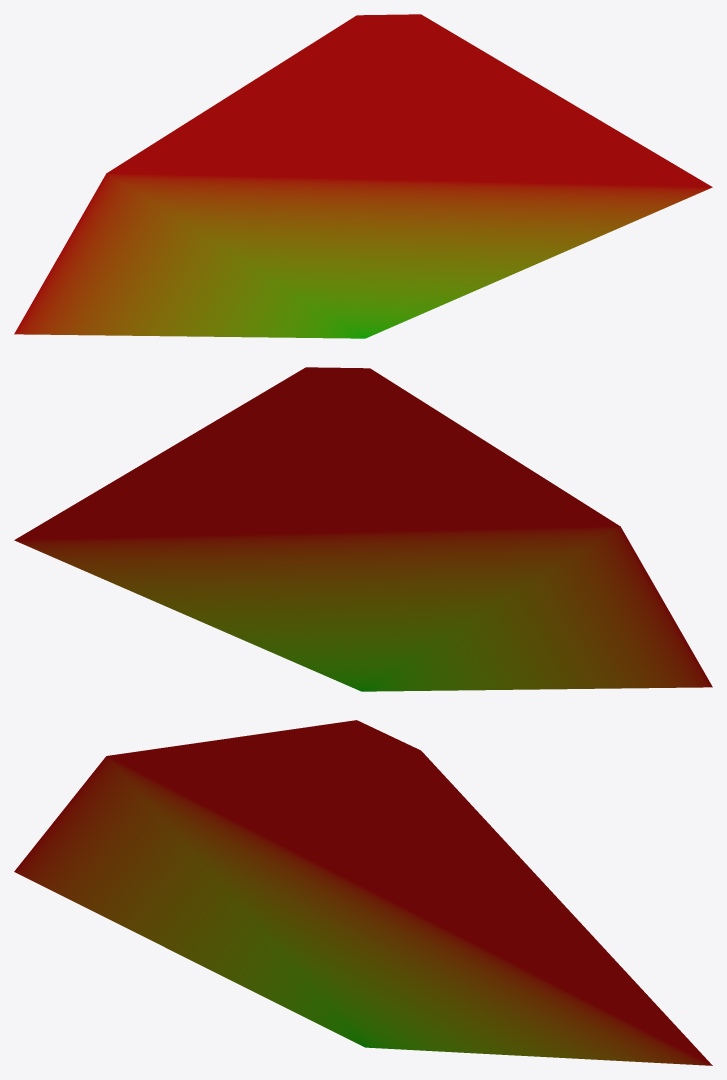
File: Silver Lady Fern_LOD5_Var5_ubolejkia.fbx
3 views of the same model, one above another, from view 1: azimuth 30°, elevation 25°; view 2: azimuth 150°, elevation 25°; view 3: azimuth 330°, elevation 25° (orthographic).
Parts seen in each view (by area): view 1: _4fad_Var5_LOD5; view 2: _4fad_Var5_LOD5; view 3: _4fad_Var5_LOD5.
Boxes of the visible parts, x1,y1,x2,y2 form: _4fad_Var5_LOD5: (14,14,712,338); _4fad_Var5_LOD5: (14,367,712,691); _4fad_Var5_LOD5: (14,720,712,1065).
Size of the model in its own units: 118 by 52.53 by 8.56e-06.
